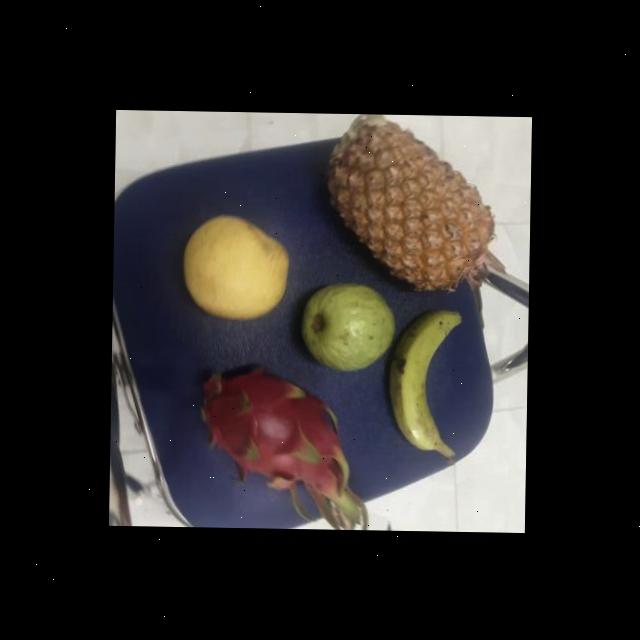banana: (388, 304, 464, 448)
guava: (300, 277, 396, 372)
pear: (180, 208, 291, 325)
pineapple: (318, 113, 494, 284)
pitaya: (196, 353, 346, 520)
